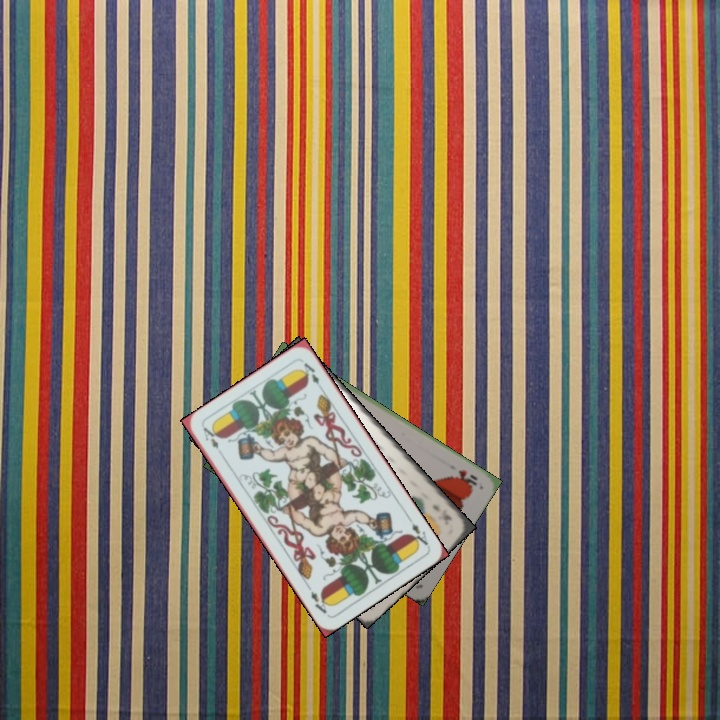EA: (404, 513, 430, 551), (199, 423, 221, 451)
EK: (428, 500, 454, 523)
HO: (452, 466, 480, 489)
